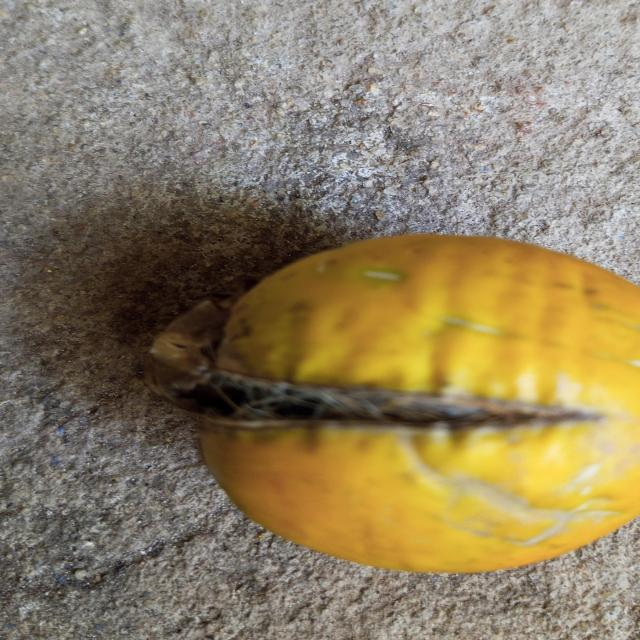damaged: (146, 234, 640, 572)
